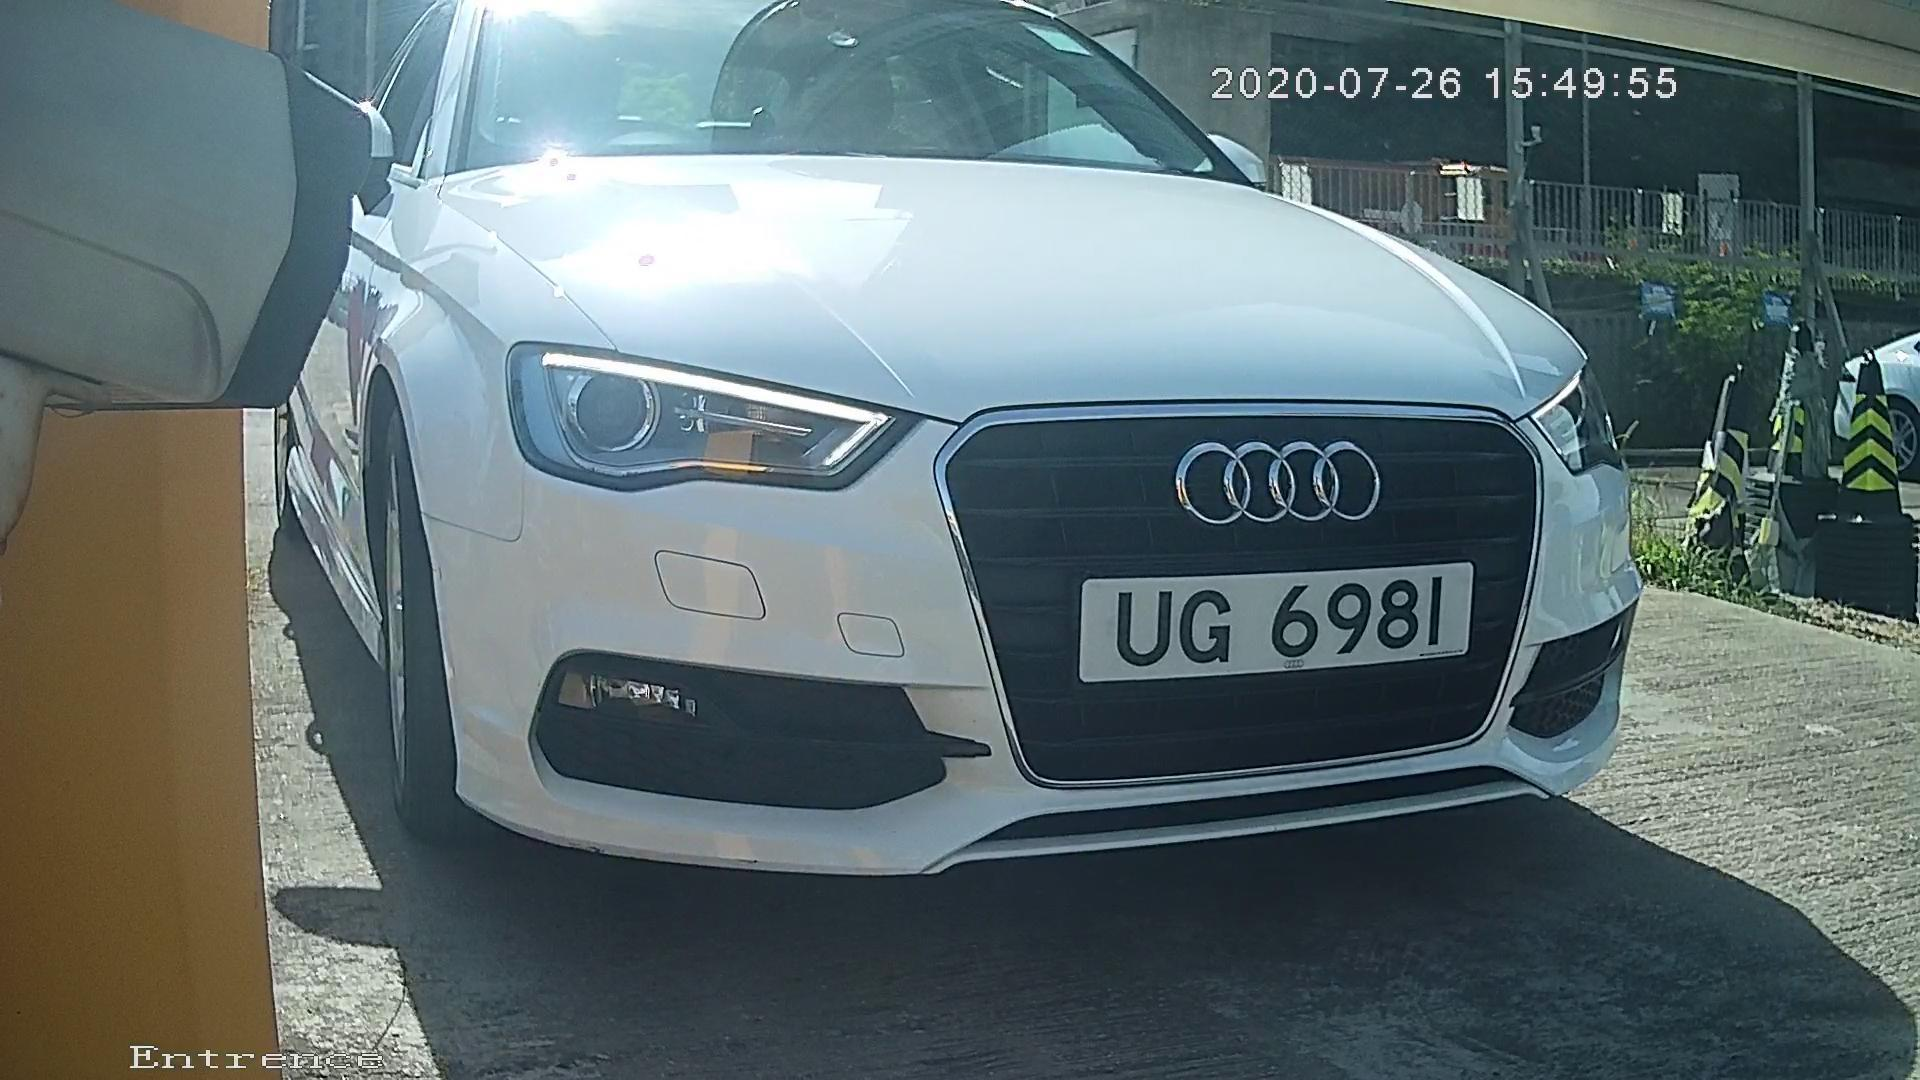privatecar: (206, 20, 1758, 960)
